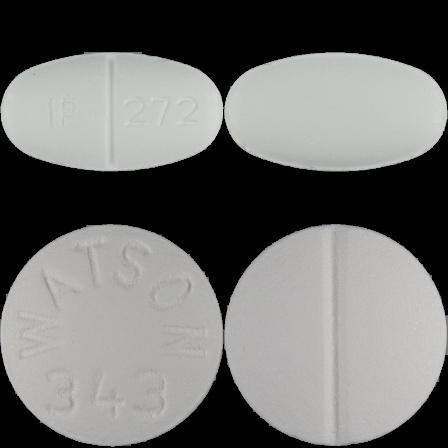0904-2725: (0, 0, 224, 224)
